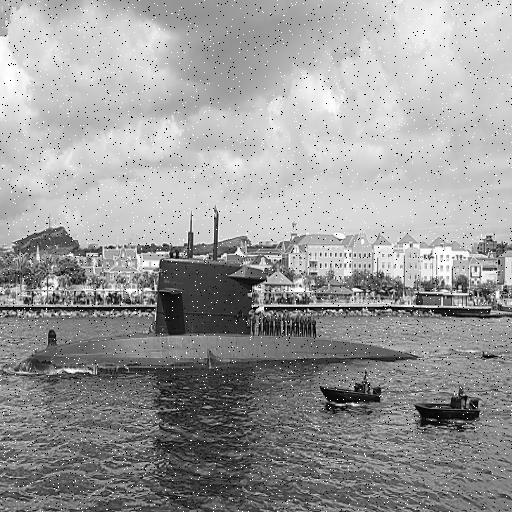submarine: (13, 205, 421, 374)
